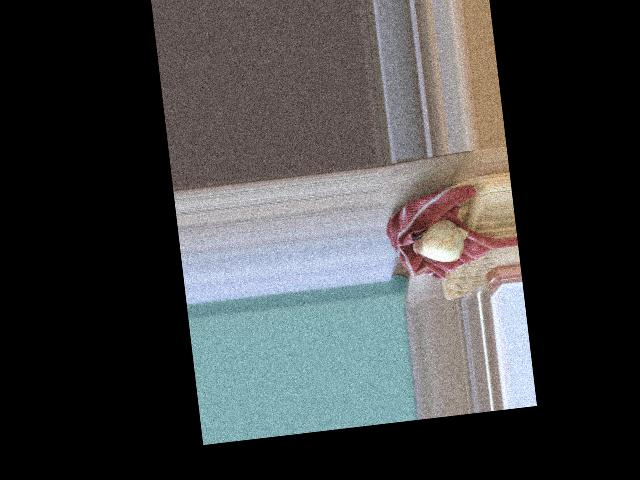onion: (413, 216, 467, 268)
